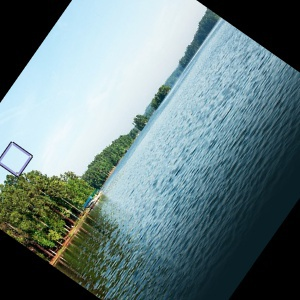square: (1, 139, 35, 178)
